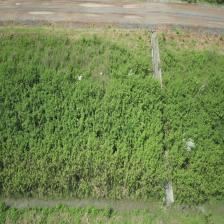slope drain: (150, 30, 174, 210), (162, 180, 174, 205)
